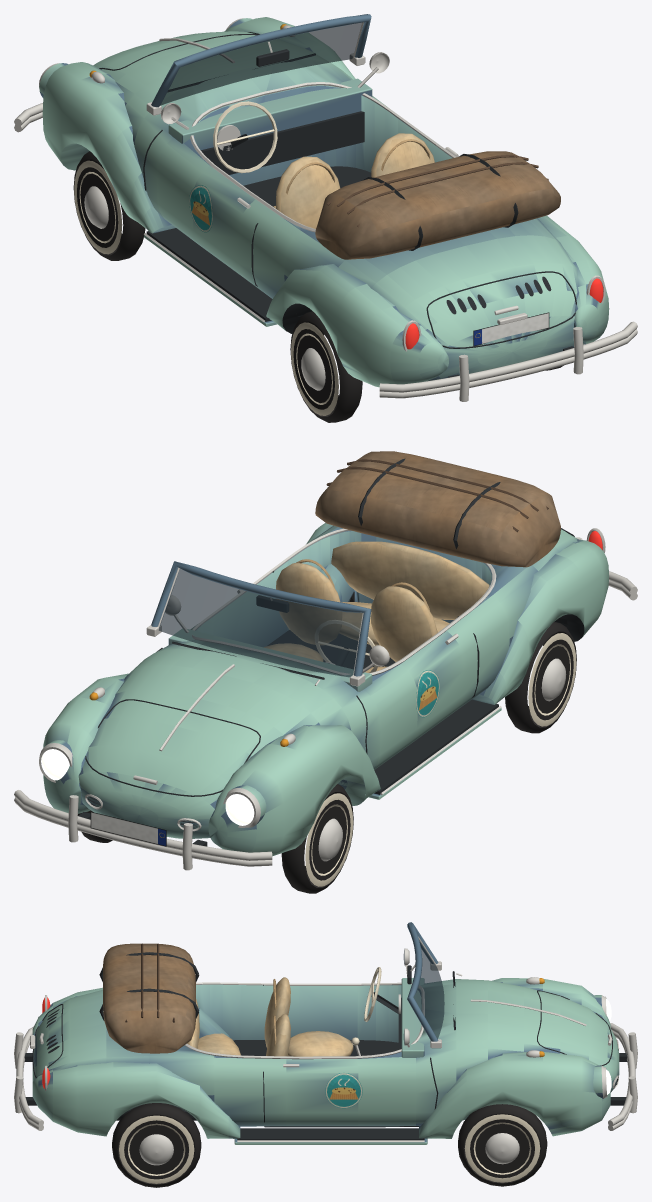
The model's file is microcar.glb.
3 renders of one model, top to bottom at view 1: azimuth 30°, elevation 25°; view 2: azimuth 150°, elevation 25°; view 3: azimuth 270°, elevation 25°, orthographic. The views are drawn at different scales.
Parts seen in each view (by area): view 1: microcar; view 2: microcar; view 3: microcar.
Boxes of the visible parts, <box> form: microcar: <box>14,14,637,422</box>; microcar: <box>14,451,637,893</box>; microcar: <box>14,922,637,1187</box>.
Size of the model in its own units: 1.63 by 1.42 by 4.33.
Materials: 15 (5 with a texture image).
